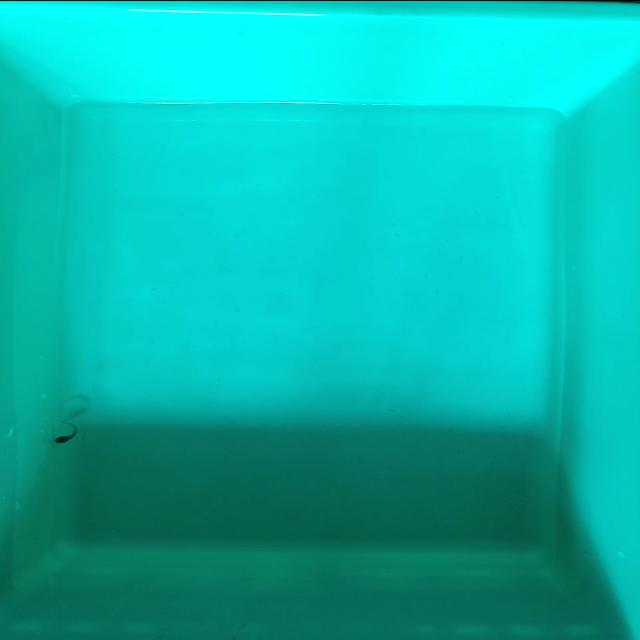lele: (52, 430, 78, 444)
